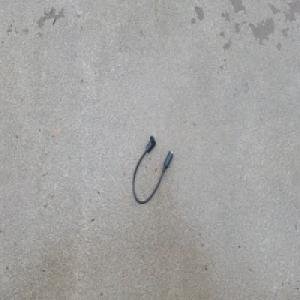Wire: (131, 133, 173, 205)
